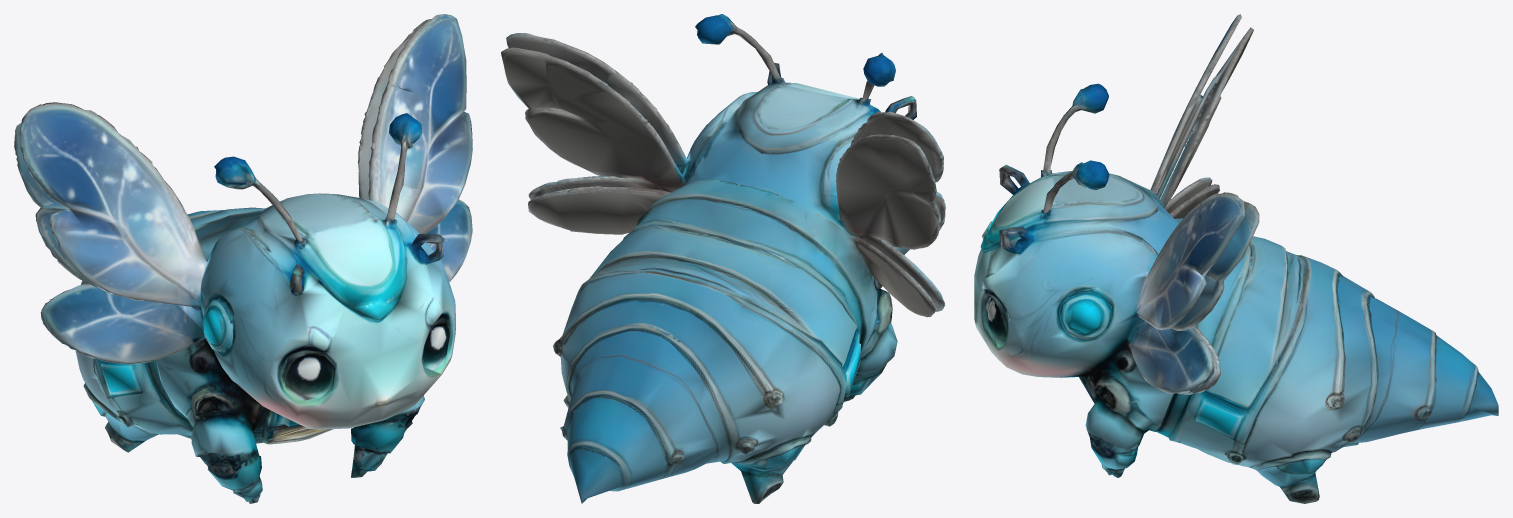
File: blue_worker.glb
3 renders of one model, left to right at view 1: azimuth 30°, elevation 25°; view 2: azimuth 150°, elevation 25°; view 3: azimuth 270°, elevation 25°, orthographic. The views are drawn at different scales.
Visible parts, largest first — view 1: node_0; view 2: node_0; view 3: node_0.
Boxes of the visible parts, left/top/right/bottom form: node_0: left=14, top=14, right=472, bottom=503; node_0: left=501, top=14, right=945, bottom=503; node_0: left=974, top=14, right=1498, bottom=503.
Size of the model in its own units: 0.8859 by 0.7658 by 0.9976.
1 material, 1 textured.
